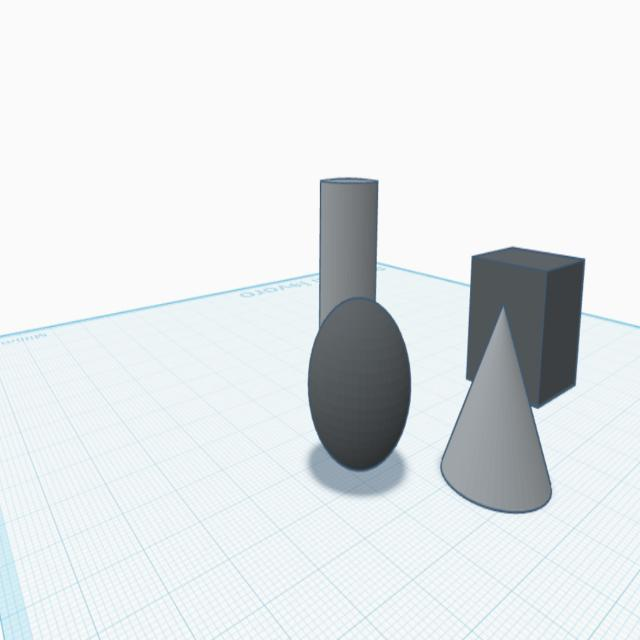cone: (437, 298, 556, 519)
sphere: (304, 292, 415, 475)
